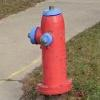a fire hydrant: (39, 5, 68, 92)
